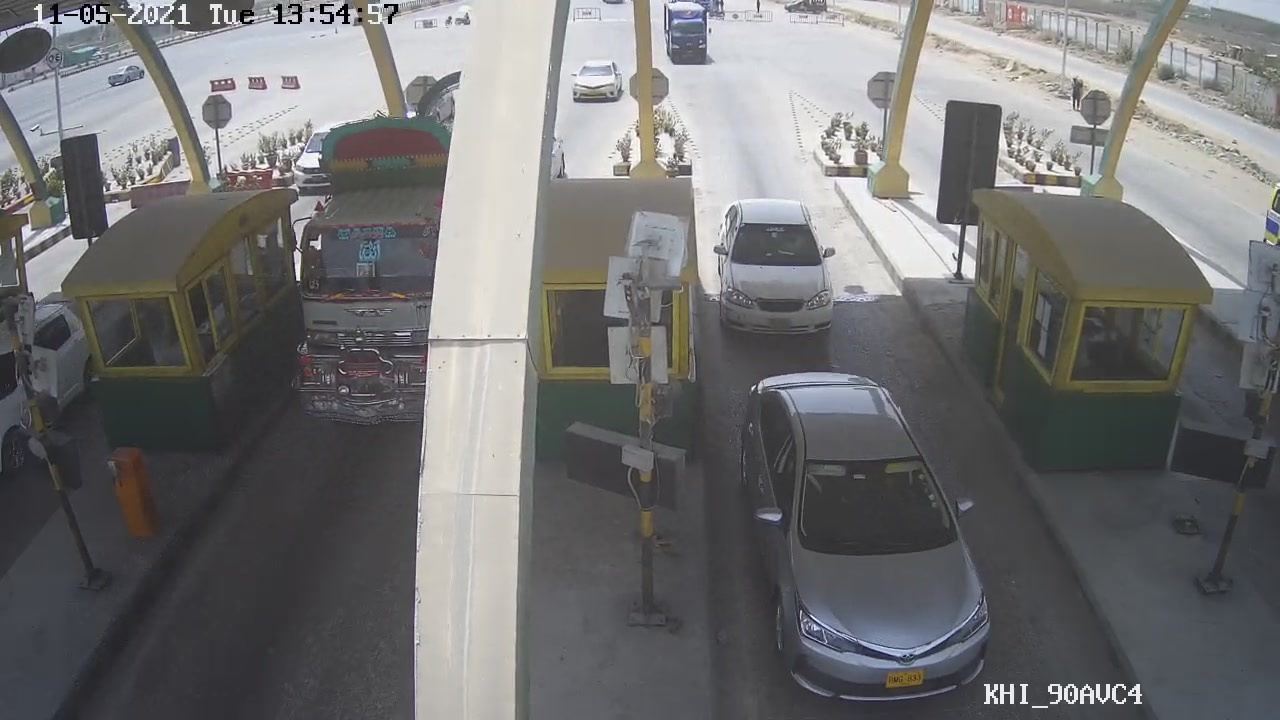F1: (737, 369, 997, 707), (710, 186, 842, 345)
